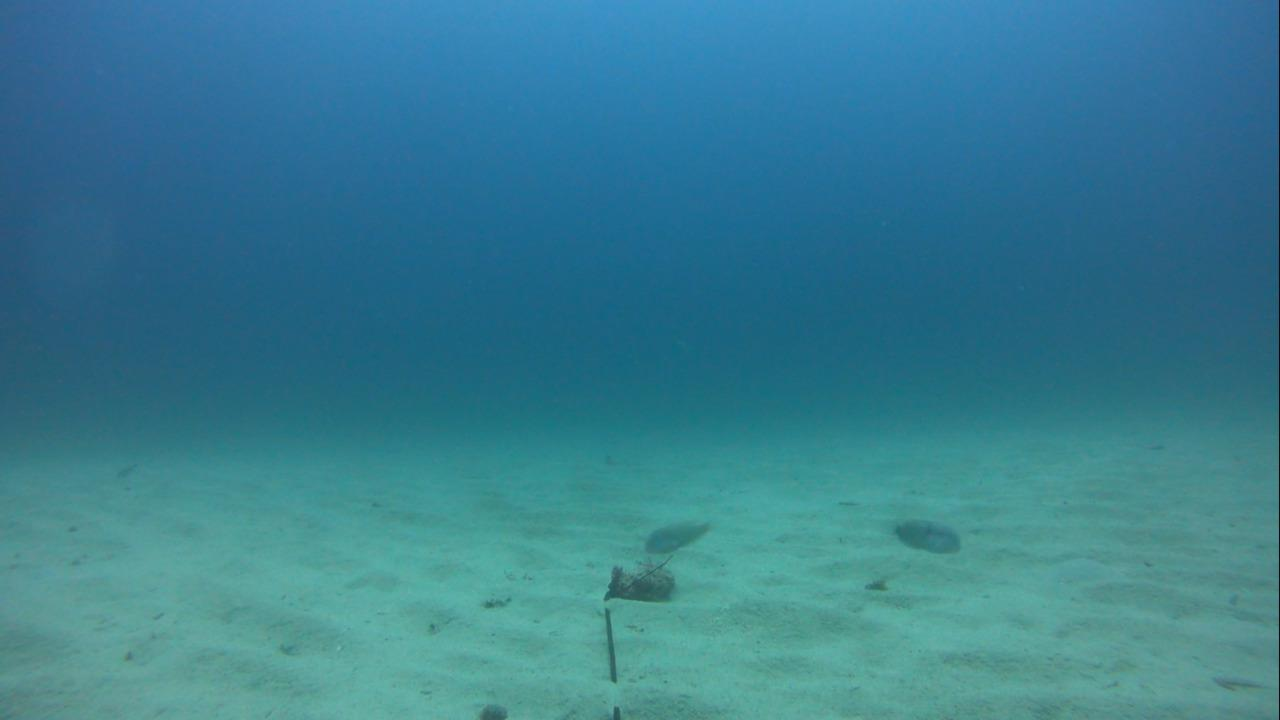raor: (885, 514, 964, 560), (639, 519, 713, 551)
